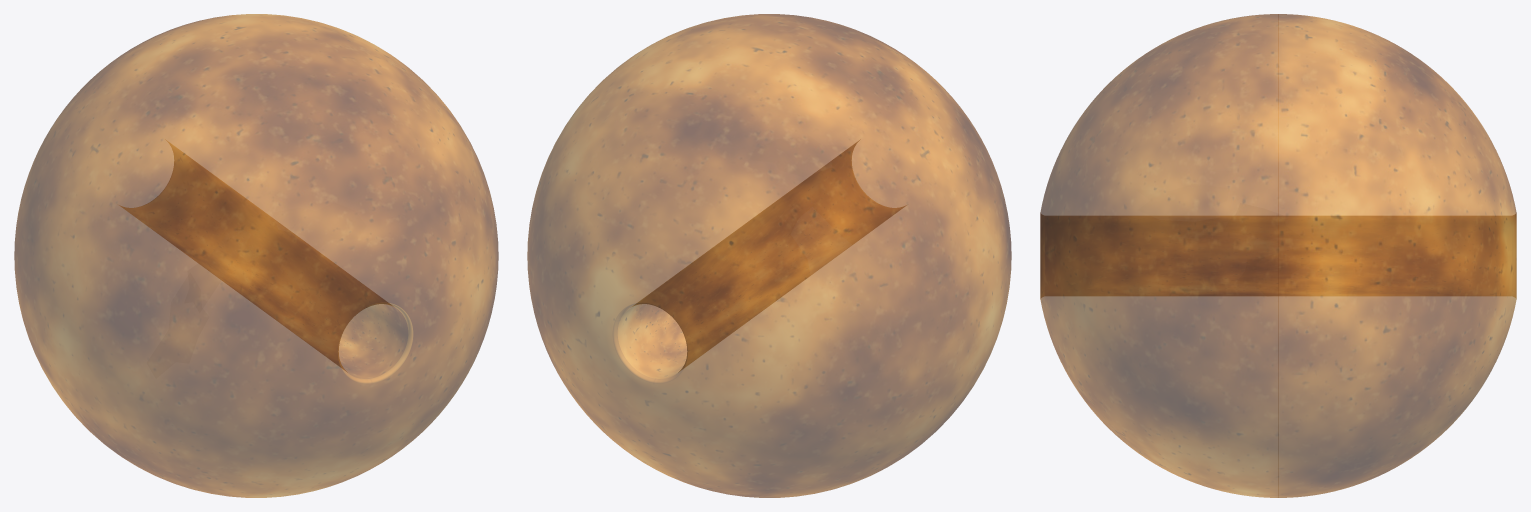
The model's file is baltic-amber-6mm.glb.
The picture shows the model from 3 angles, left to right: view 1: azimuth 30°, elevation 25°; view 2: azimuth 150°, elevation 25°; view 3: azimuth 270°, elevation 25°; orthographic projection.
Parts seen in each view (by area): view 1: baltic-amber.001; view 2: baltic-amber.001; view 3: baltic-amber.001.
Part boxes in pixels (x1,y1,x2,y2): baltic-amber.001: (14, 14, 498, 497); baltic-amber.001: (527, 14, 1011, 497); baltic-amber.001: (1040, 14, 1516, 497).
Size of the model in its own units: 0.006 by 0.006 by 0.0059.
Materials: 2 (1 with a texture image).
